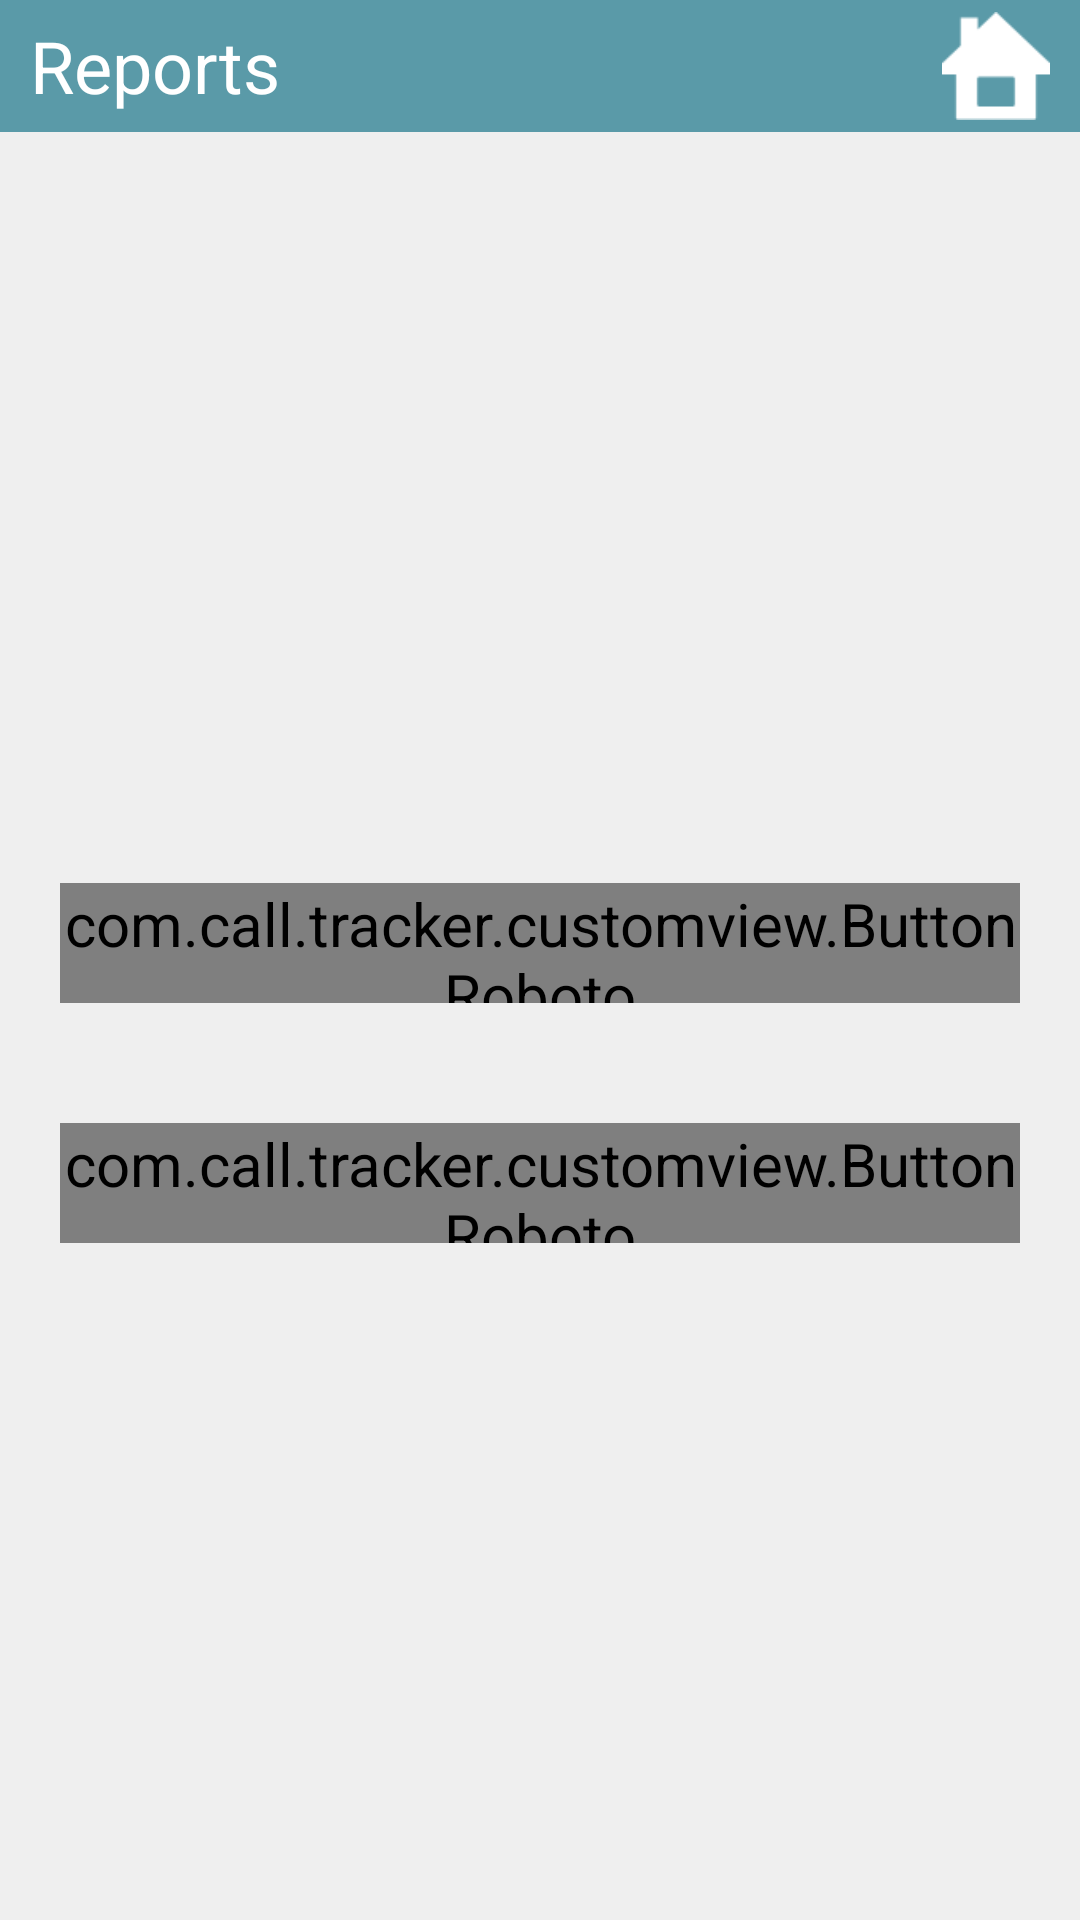

Icons on this 1080 x 1920 Android screen, each with its box as box=[x1, y1, x2, y2]:
home: box=[942, 12, 1050, 120]
